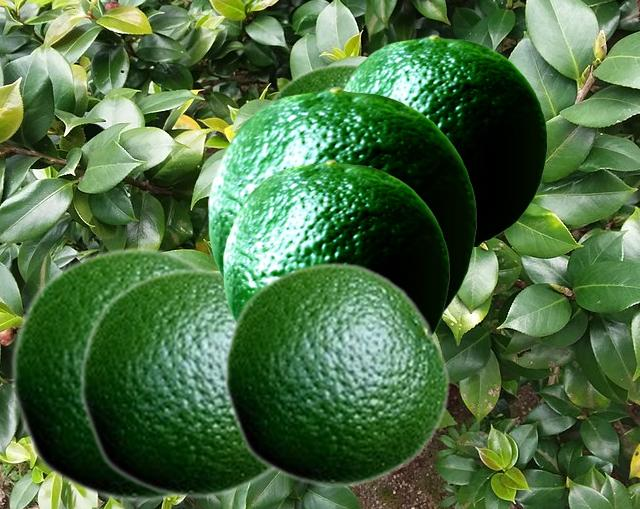calamansi: (208, 86, 475, 314), (222, 261, 450, 488), (9, 246, 204, 503), (78, 267, 273, 499), (342, 34, 546, 245), (223, 159, 448, 334), (266, 62, 359, 102)
